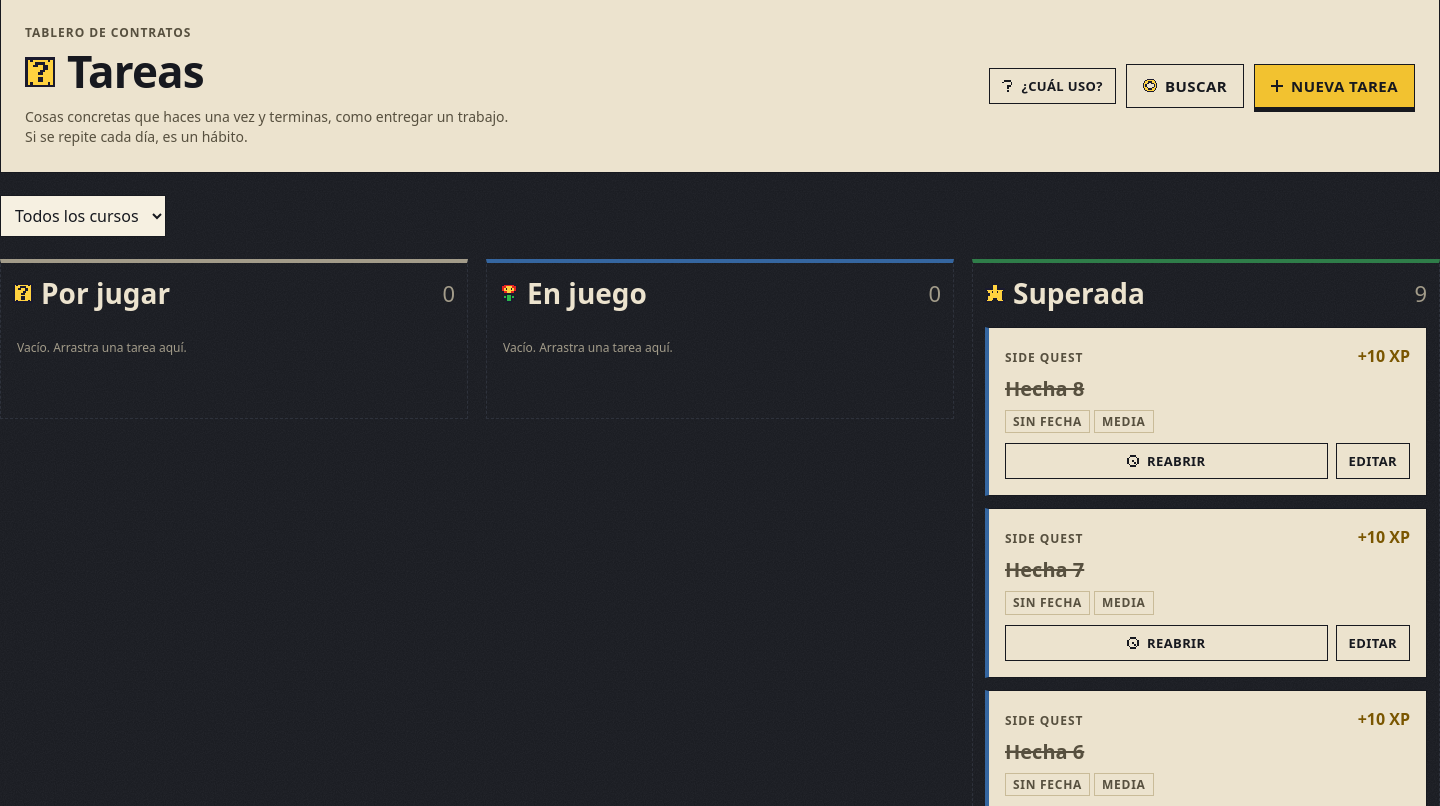
Scenario: Tareas › al buscar se enseñan todas las que coinciden, sin límite
The image size is (1440, 806).
Click the button "Buscar".
click(1185, 86)  # box left=1126, top=64, right=1244, bottom=108
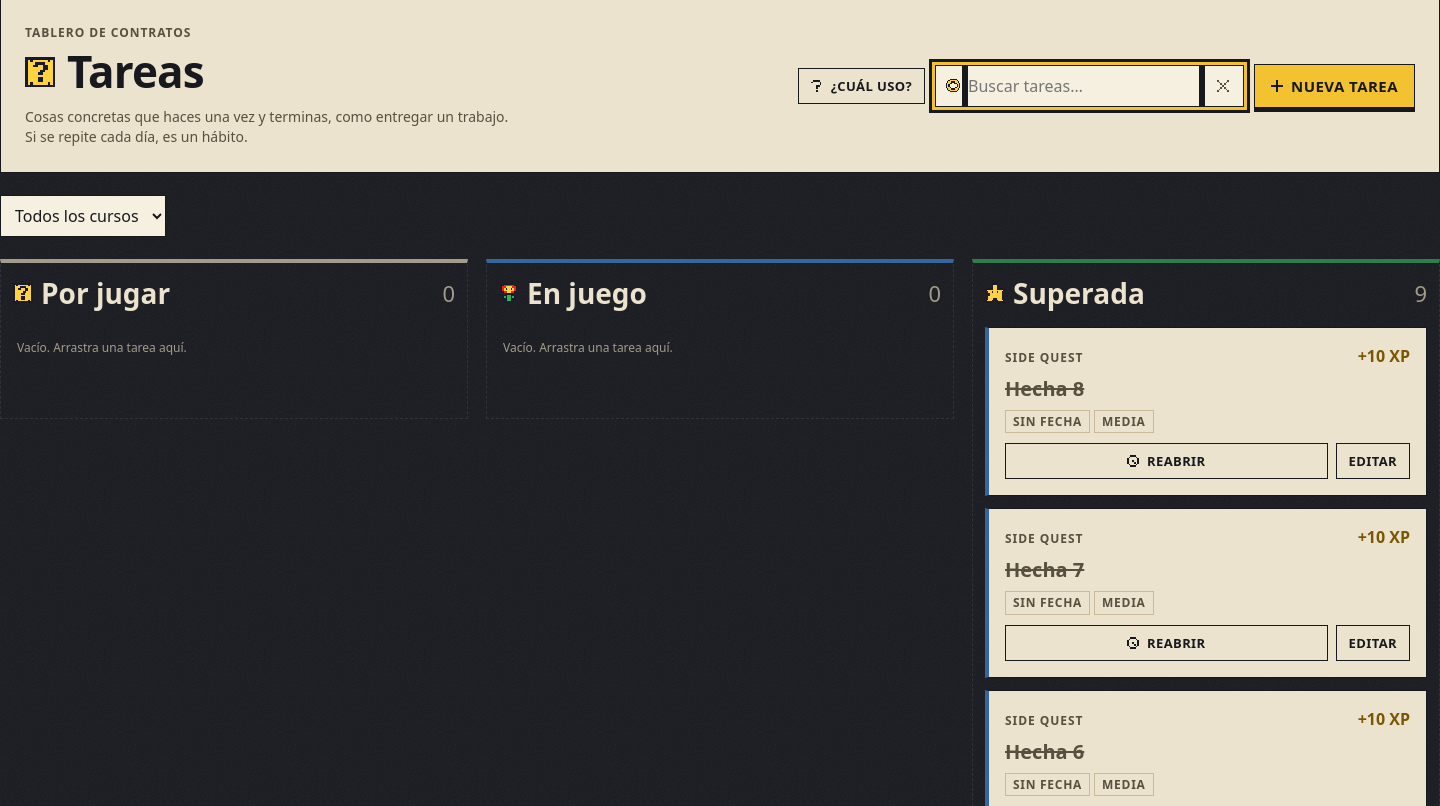
Type "hecha" into the search field.
click(1084, 86); type("hecha")  # box left=968, top=66, right=1199, bottom=106
(page scrolled)
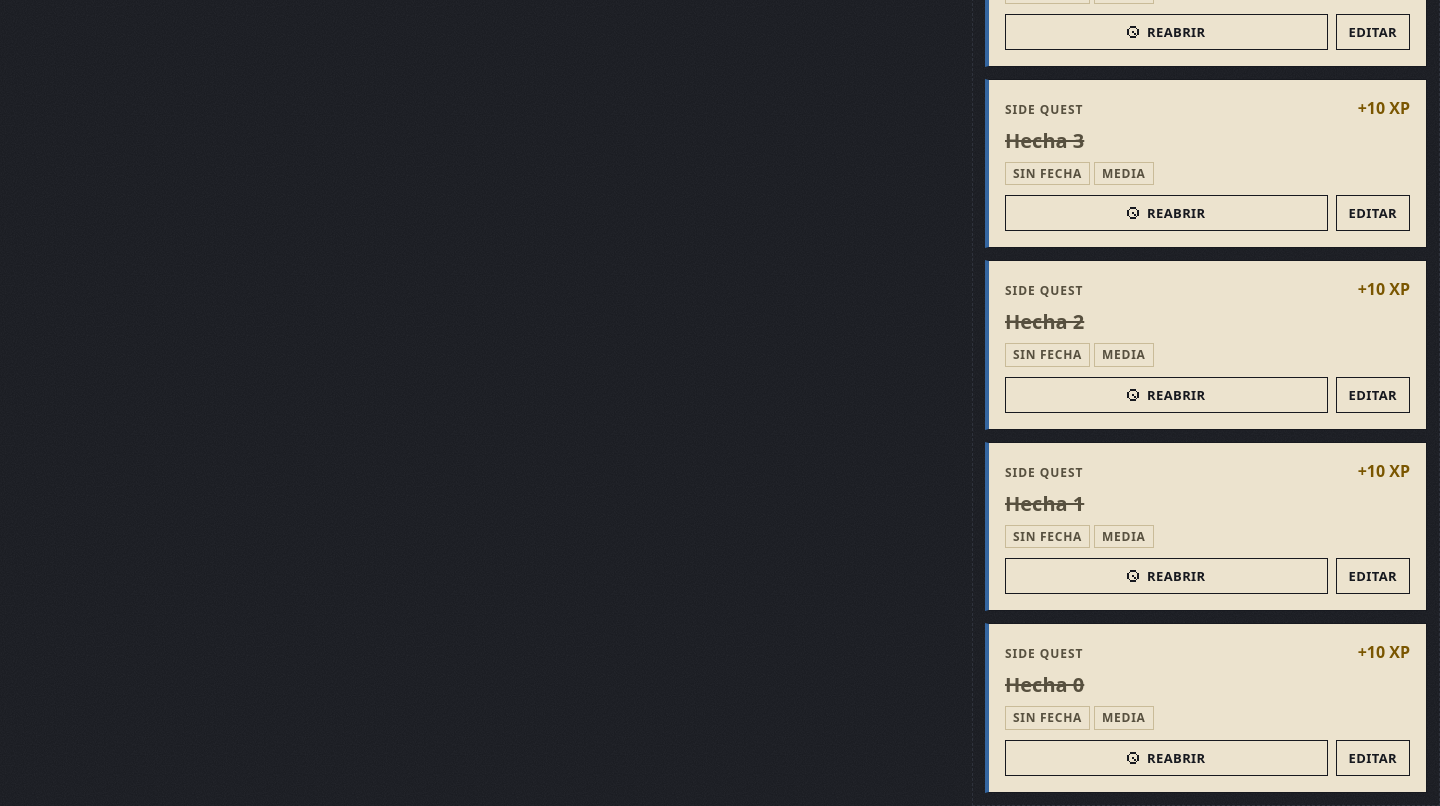
Expected: the heading "Hecha 0" is shown, left=1005, top=672, right=1084, bottom=698
